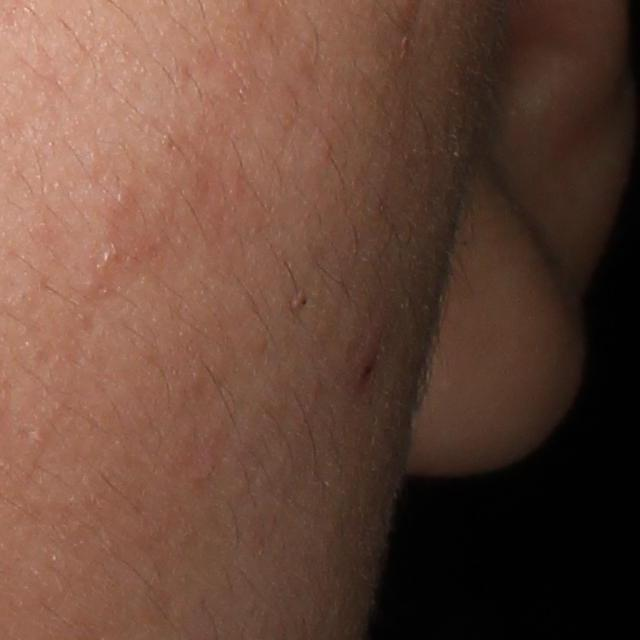comedo: (112, 181, 137, 208)
